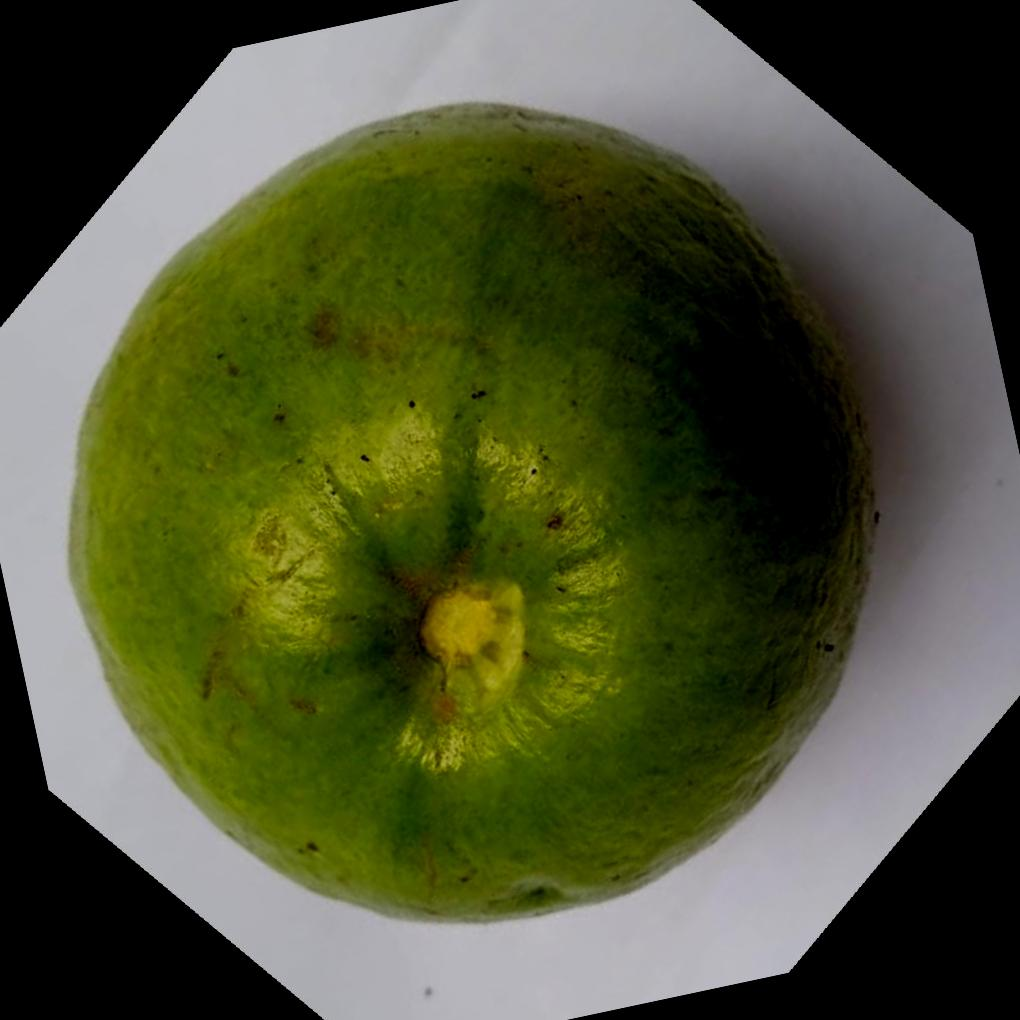FreshGuava: (62, 100, 881, 931)
